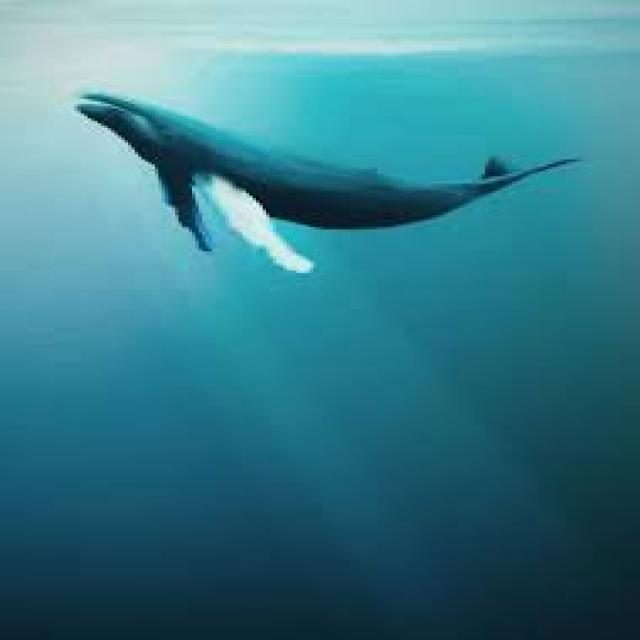whale: (77, 92, 576, 270)
